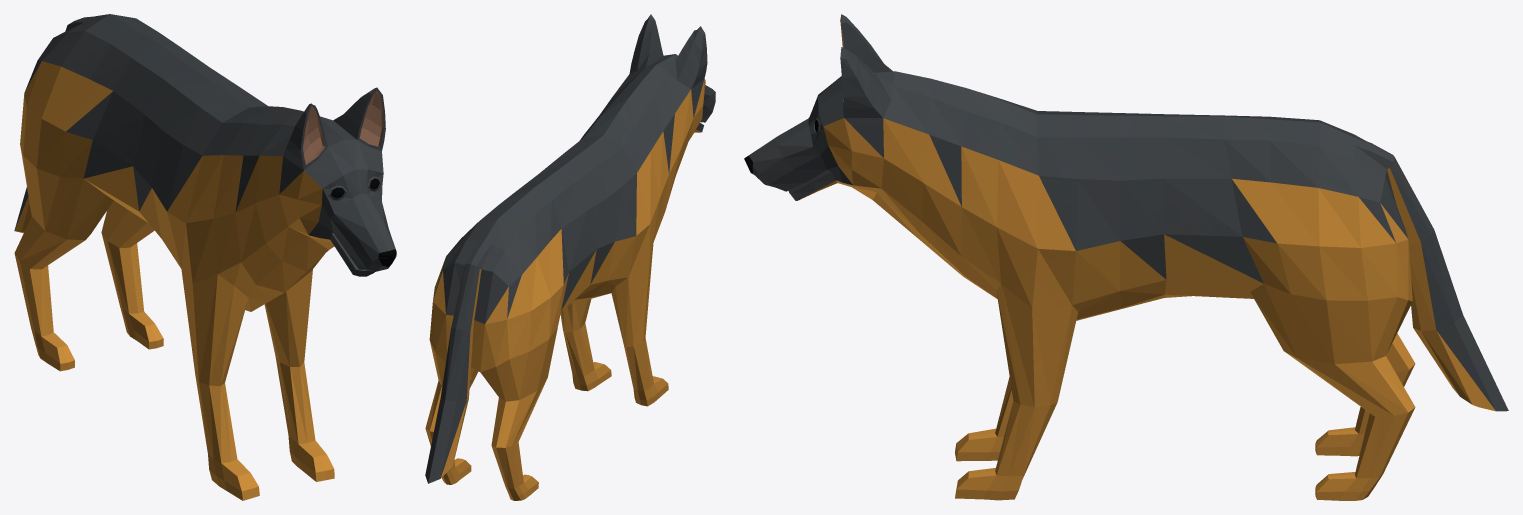
Rendered from prop_pa_dog_3.glb.
3 views of the same model, side by side, from view 1: azimuth 30°, elevation 25°; view 2: azimuth 150°, elevation 25°; view 3: azimuth 270°, elevation 25° (orthographic). The views are drawn at different scales.
Visible parts, largest first — view 1: 25dogFinal; view 2: 25dogFinal; view 3: 25dogFinal.
Boxes of the visible parts, left/top/right/bottom form: 25dogFinal: left=14, top=14, right=396, bottom=500; 25dogFinal: left=425, top=14, right=715, bottom=500; 25dogFinal: left=744, top=14, right=1508, bottom=500.
Bounding box in the file's own units: 0.4091 × 1.21 × 1.88.
Materials: 1 (1 with a texture image).
